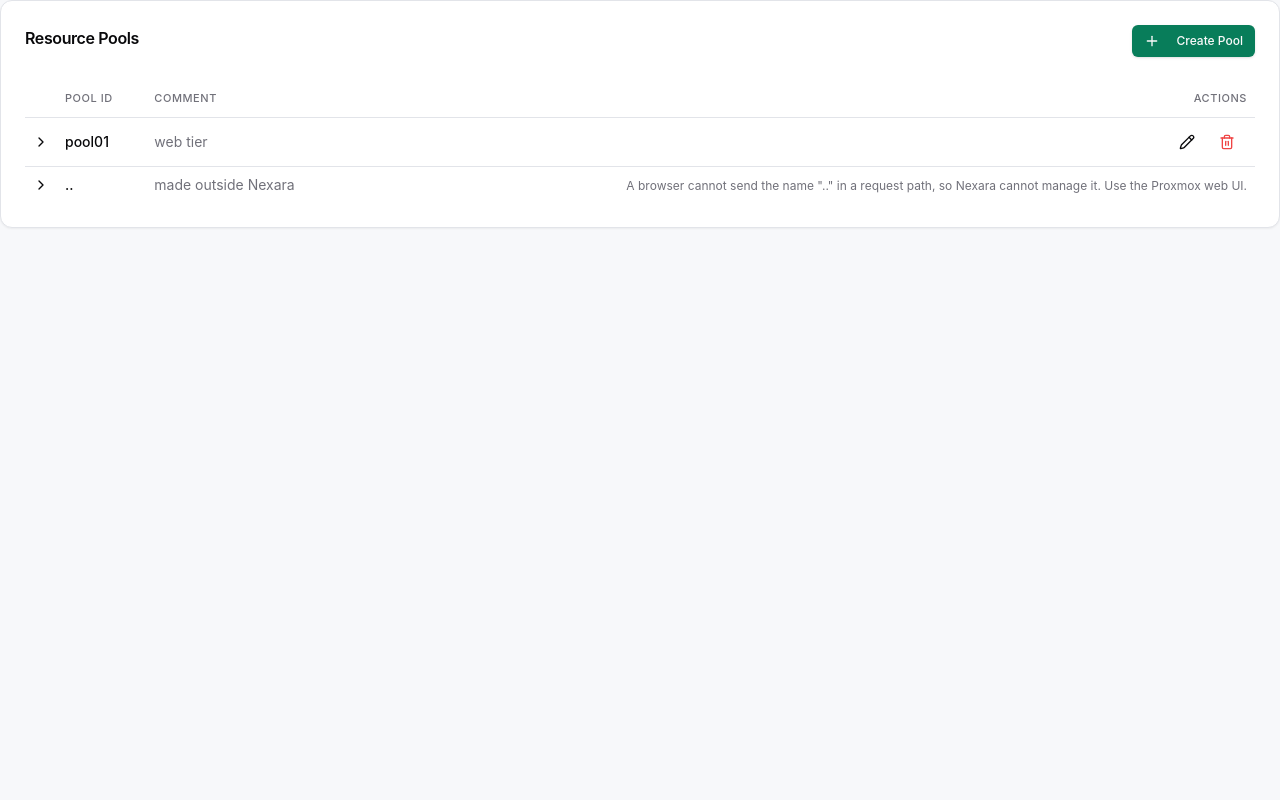
it: deleting a pool › asks first, names the pool, and sends nothing on Cancel
Click the button named "Delete pool01".
click(1227, 142)  # box 1207,126 -> 1247,158
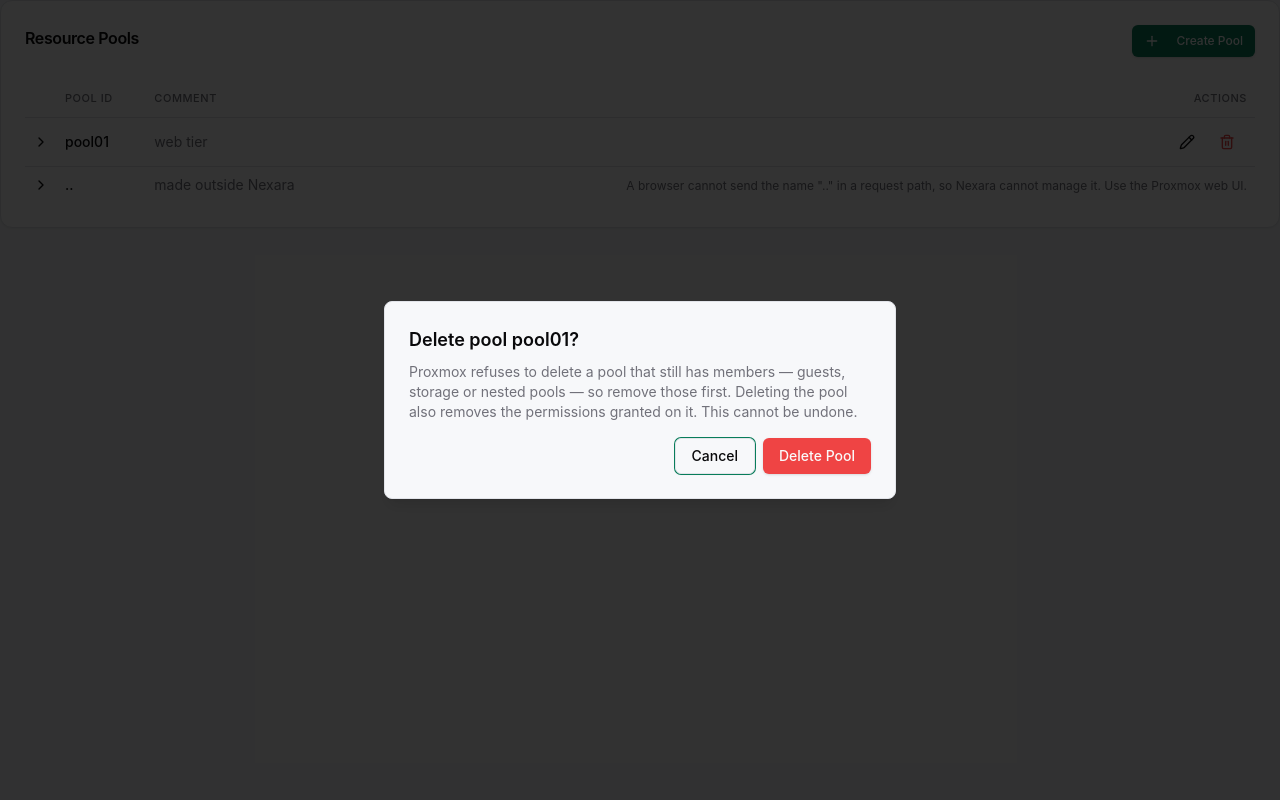
Expected: the heading "Delete pool pool01?" is shown, 409,329 -> 579,350
Expected: the dialog shows "Proxmox refuses to delete a pool that still has members", 409,363 -> 857,420
Click the button "Cancel".
click(715, 456)  # box 674,438 -> 755,474
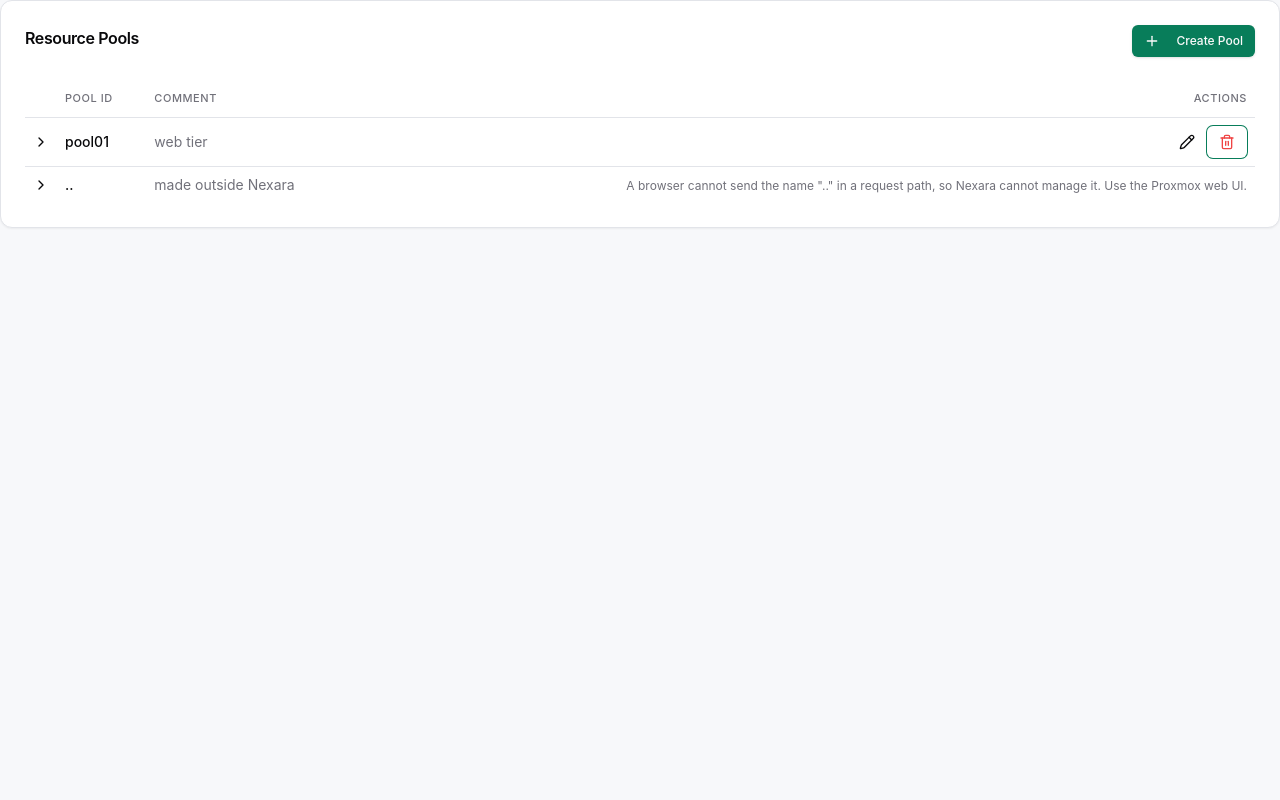
Expected: the dialog is gone
